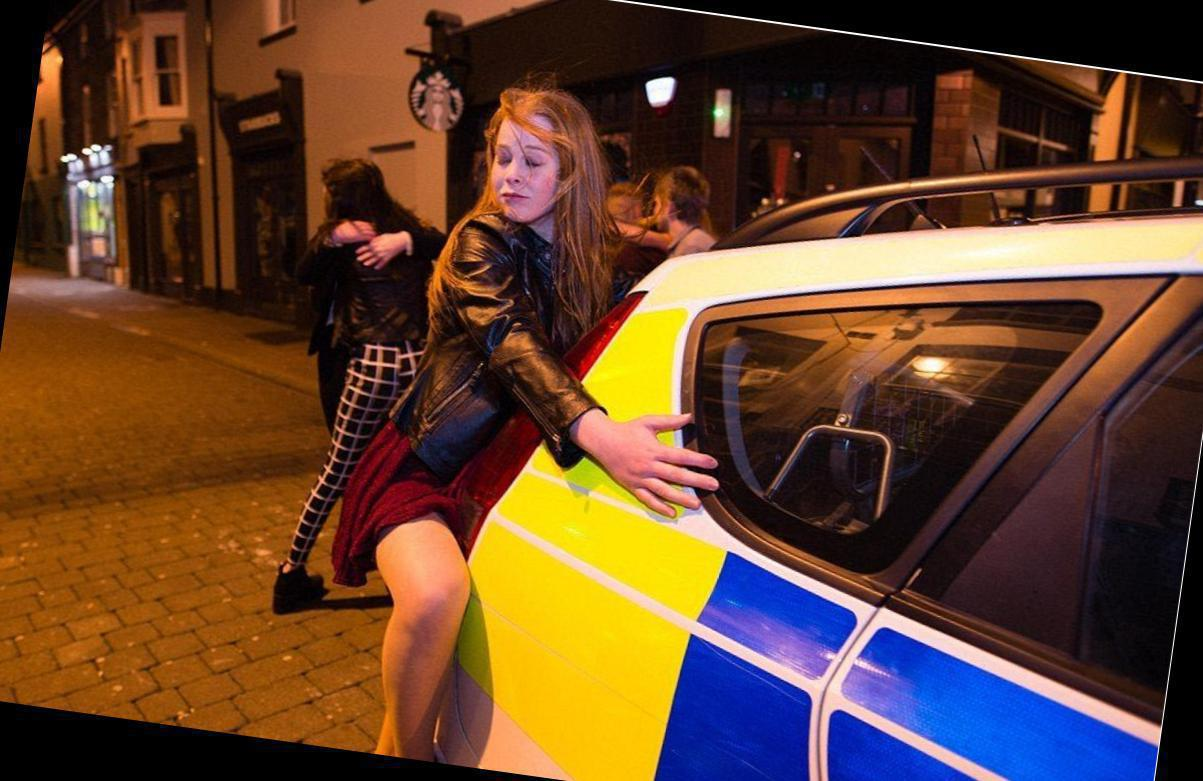Drunk: (491, 116, 560, 222)
